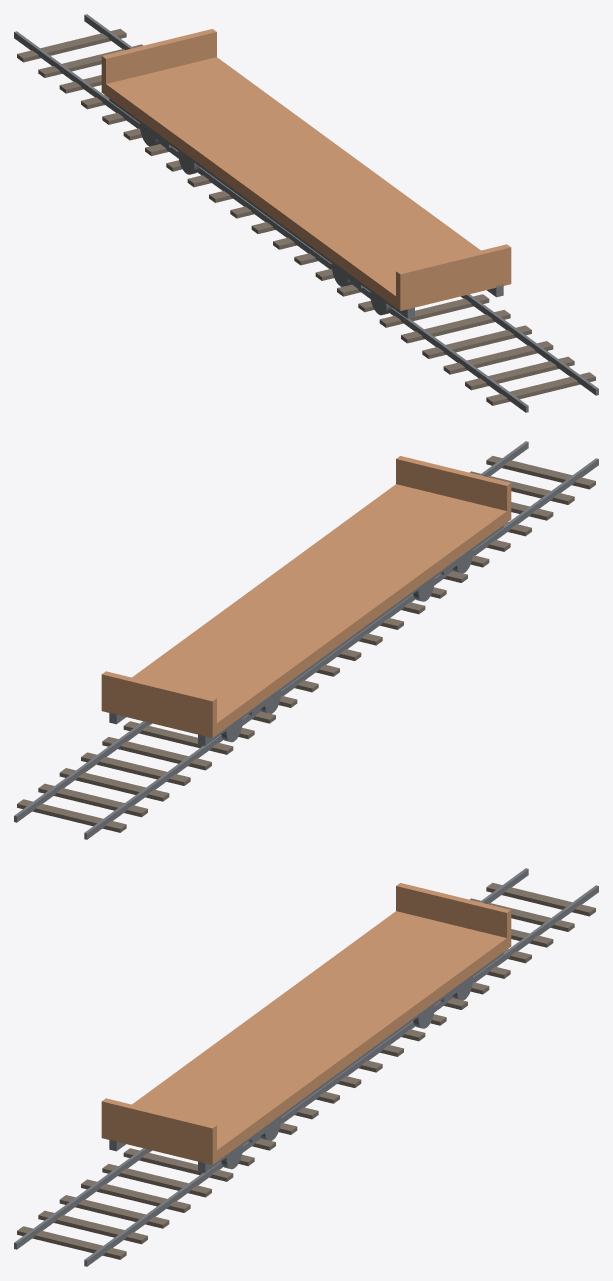
Rendered from harbor_freight_train.glb.
3 views of the same model, one above another, from view 1: azimuth 30°, elevation 25°; view 2: azimuth 150°, elevation 25°; view 3: azimuth 330°, elevation 25° (orthographic).
Visible parts, largest first — view 1: Train_Flatcar_Deck, Train_Bulkhead_B, Rail_Steel_-0.95, Train_Bulkhead_F, Rail_Steel_0.95, Train_Frame_L, Rail_Tie_-9, Rail_Tie_11, Rail_Tie_-7, Rail_Tie_-10, Rail_Tie_-11, Rail_Tie_-8 (+2 smaller); view 2: Train_Flatcar_Deck, Train_Bulkhead_F, Rail_Steel_-0.95, Train_Bulkhead_B, Rail_Steel_0.95, Train_Frame_L, Rail_Tie_9, Rail_Tie_7, Rail_Tie_-11, Rail_Tie_10, Rail_Tie_11, Rail_Tie_8 (+2 smaller); view 3: Train_Flatcar_Deck, Train_Bulkhead_B, Rail_Steel_0.95, Train_Bulkhead_F, Rail_Steel_-0.95, Train_Frame_R, Rail_Tie_-9, Rail_Tie_11, Rail_Tie_-7, Rail_Tie_-10, Rail_Tie_-11, Rail_Tie_-8 (+2 smaller).
Part boxes in pixels (x1,y1,x2,y2): Train_Flatcar_Deck: [101, 57, 511, 310]; Train_Bulkhead_B: [396, 244, 511, 301]; Rail_Steel_-0.95: [14, 31, 528, 412]; Train_Bulkhead_F: [101, 29, 216, 85]; Rail_Steel_0.95: [84, 14, 598, 395]; Train_Frame_L: [109, 98, 414, 318]; Rail_Tie_-9: [443, 341, 553, 374]; Rail_Tie_11: [17, 28, 126, 62]; Rail_Tie_-7: [401, 310, 510, 343]; Rail_Tie_-10: [465, 356, 574, 390]; Rail_Tie_-11: [486, 372, 595, 405]; Rail_Tie_-8: [422, 325, 531, 358]; Train_Flatcar_Deck: [101, 484, 511, 737]; Train_Bulkhead_F: [101, 671, 216, 728]; Rail_Steel_-0.95: [84, 458, 598, 839]; Train_Bulkhead_B: [396, 456, 511, 512]; Rail_Steel_0.95: [14, 441, 528, 822]; Train_Frame_L: [198, 525, 503, 745]; Rail_Tie_9: [59, 768, 169, 801]; Rail_Tie_7: [102, 737, 211, 770]; Rail_Tie_-11: [486, 455, 595, 489]; Rail_Tie_10: [38, 783, 147, 817]; Rail_Tie_11: [17, 799, 126, 832]; Rail_Tie_8: [81, 752, 190, 785]; Train_Flatcar_Deck: [101, 911, 511, 1164]; Train_Bulkhead_B: [101, 1098, 216, 1155]; Rail_Steel_0.95: [84, 885, 598, 1266]; Train_Bulkhead_F: [396, 883, 511, 939]; Rail_Steel_-0.95: [14, 868, 528, 1249]; Train_Frame_R: [198, 952, 503, 1172]; Rail_Tie_-9: [59, 1195, 169, 1228]; Rail_Tie_11: [486, 882, 595, 916]; Rail_Tie_-7: [102, 1164, 211, 1197]; Rail_Tie_-10: [38, 1210, 147, 1244]; Rail_Tie_-11: [17, 1226, 126, 1259]; Rail_Tie_-8: [81, 1179, 190, 1212].
Bounding box in the file's own units: 3 × 1.75 × 24.
